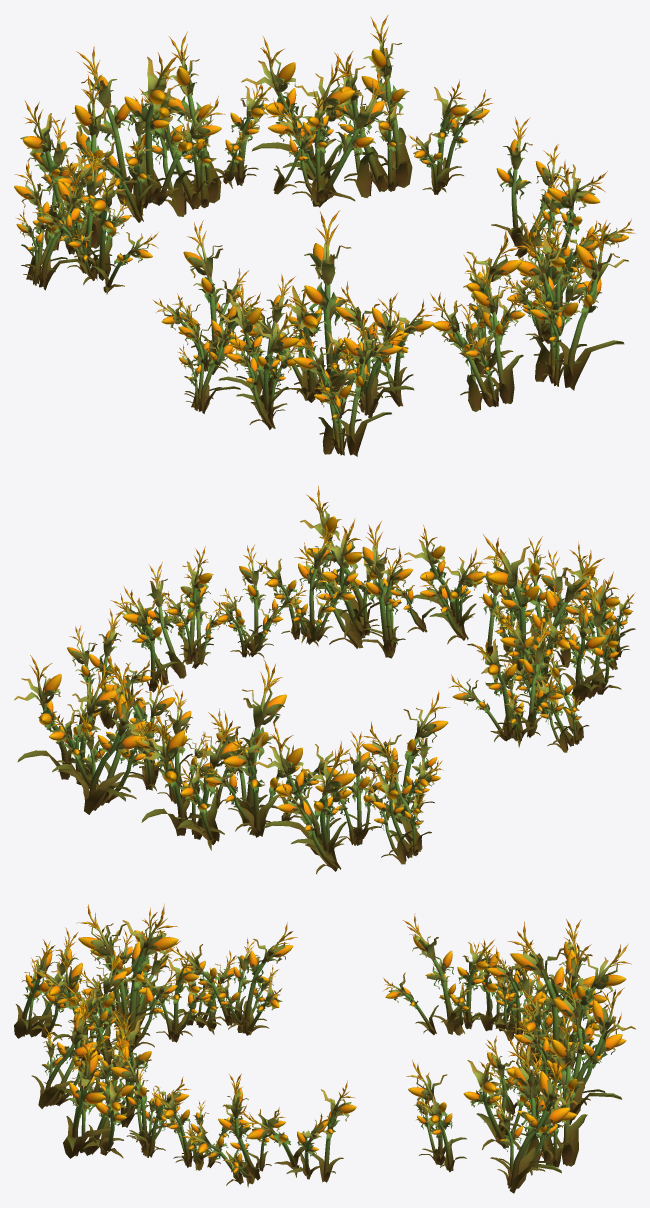
The model's file is corn_only_export.fbx.
3 renders of one model, top to bottom at view 1: azimuth 30°, elevation 25°; view 2: azimuth 150°, elevation 25°; view 3: azimuth 270°, elevation 25°, orthographic. The views are drawn at different scales.
Parts seen in each view (by area): view 1: corn_2, corn; view 2: corn, corn_2; view 3: corn, corn_2.
Part boxes in pixels (x1,y1,x2,y2): corn_2: (14,14,628,456); corn: (32,46,635,416); corn: (67,520,604,845); corn_2: (14,485,635,874); corn: (33,903,631,1187); corn_2: (14,907,635,1193).
Size of the model in its own units: 5192 by 2106 by 6937.
